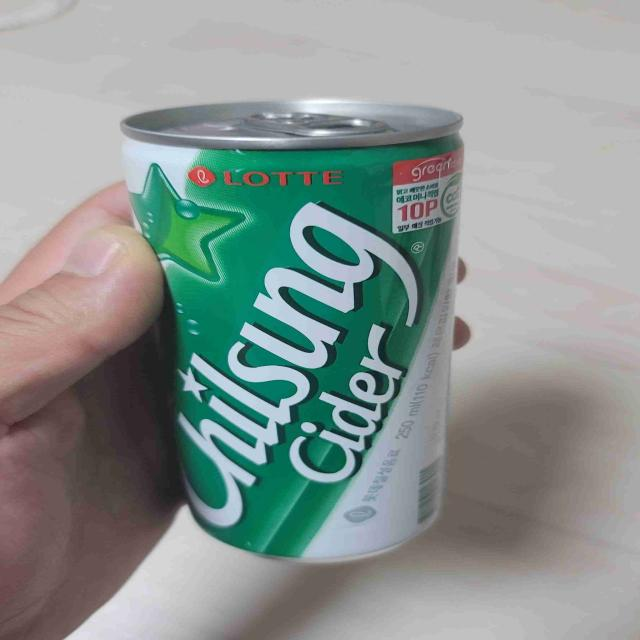can: (114, 96, 472, 566)
